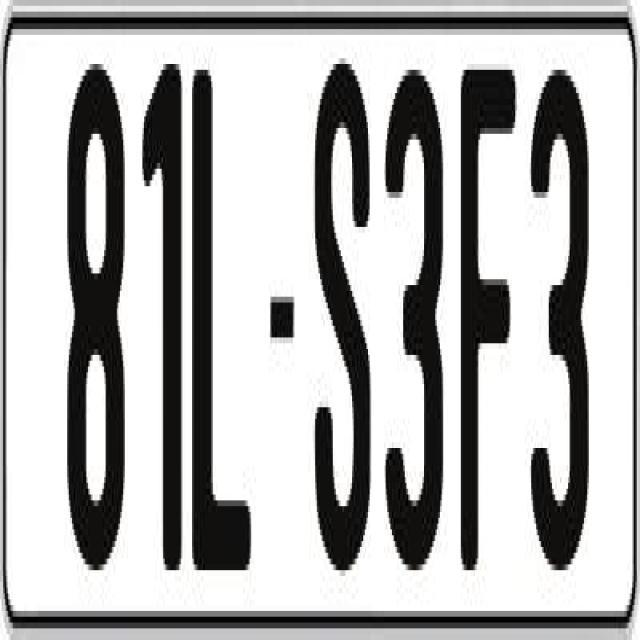1: (142, 58, 190, 564)
3: (381, 52, 446, 558), (531, 52, 592, 564)
8: (62, 52, 130, 570)
F: (458, 70, 512, 576)
L: (192, 52, 254, 570)
S: (315, 64, 373, 570)
